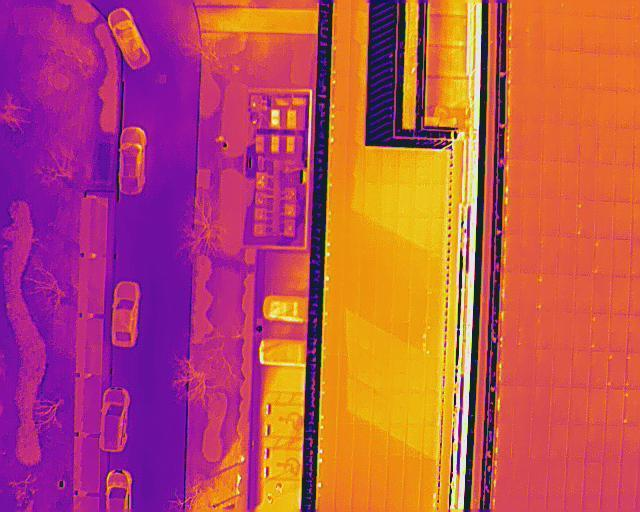Cell-Multi: (590, 313, 610, 352), (607, 351, 626, 391), (508, 11, 527, 50), (506, 160, 525, 198), (494, 460, 513, 497), (508, 48, 527, 85), (593, 240, 612, 277), (536, 274, 555, 311), (505, 197, 524, 232), (577, 201, 594, 238), (501, 311, 518, 346)
No-Anomaly: (577, 53, 599, 92), (614, 128, 635, 168), (523, 11, 545, 49), (542, 84, 562, 125), (530, 423, 550, 463), (613, 201, 633, 241), (533, 348, 554, 386), (579, 123, 598, 165), (615, 18, 635, 57), (511, 424, 531, 463), (561, 14, 581, 53), (597, 16, 617, 55), (541, 11, 561, 50), (559, 125, 579, 164), (521, 160, 542, 197), (579, 16, 600, 53), (562, 50, 581, 90), (548, 424, 567, 464), (531, 385, 551, 423), (515, 348, 535, 386), (558, 198, 577, 238), (552, 312, 572, 350), (600, 462, 621, 498), (596, 127, 615, 166), (520, 234, 539, 273), (518, 272, 537, 311), (582, 461, 602, 498), (613, 165, 633, 202), (618, 463, 639, 498), (617, 54, 636, 92), (614, 91, 633, 129), (538, 197, 557, 235), (557, 236, 576, 274), (596, 165, 615, 203), (526, 85, 545, 123), (543, 50, 563, 86), (604, 424, 622, 464), (550, 387, 570, 423), (610, 240, 630, 276), (524, 124, 544, 160), (610, 279, 630, 315), (539, 235, 557, 275), (609, 315, 628, 352), (591, 277, 610, 314), (560, 163, 578, 202), (562, 86, 580, 125), (594, 200, 612, 239), (510, 463, 530, 498), (528, 461, 548, 496), (526, 49, 544, 87), (599, 53, 617, 91), (568, 424, 586, 462), (556, 275, 574, 313), (518, 312, 537, 348), (586, 424, 604, 461), (589, 388, 607, 425), (575, 238, 593, 275), (573, 314, 591, 351), (579, 163, 597, 200), (573, 277, 592, 312), (544, 123, 561, 162), (606, 389, 624, 425), (569, 387, 587, 423), (541, 161, 559, 197), (515, 386, 533, 421), (580, 89, 598, 124), (590, 351, 607, 388), (572, 350, 589, 387), (553, 350, 570, 387), (522, 196, 539, 233), (546, 463, 565, 496), (565, 463, 584, 496), (598, 90, 615, 126), (537, 313, 554, 348), (496, 424, 512, 460), (501, 349, 517, 385)
Unclassified: (507, 83, 527, 121), (503, 234, 522, 274), (496, 385, 515, 424), (502, 273, 520, 310), (506, 124, 524, 160)
